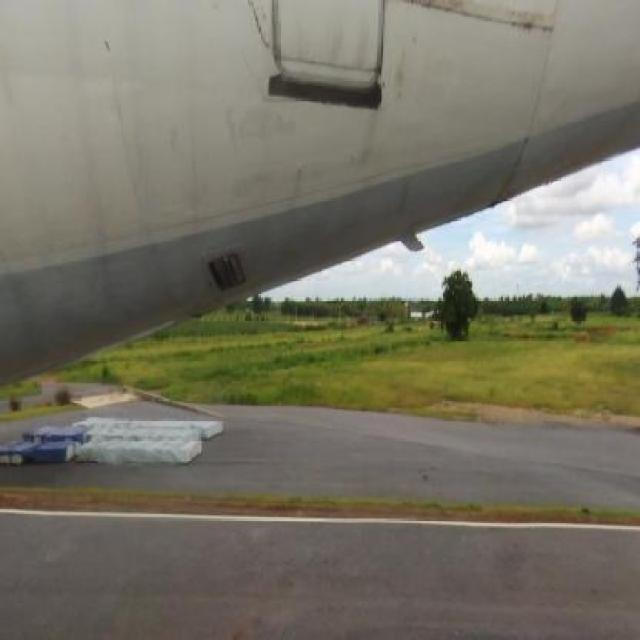Rust: (427, 1, 555, 41), (325, 14, 372, 78), (389, 32, 417, 111)
Scartch: (222, 104, 322, 153)
